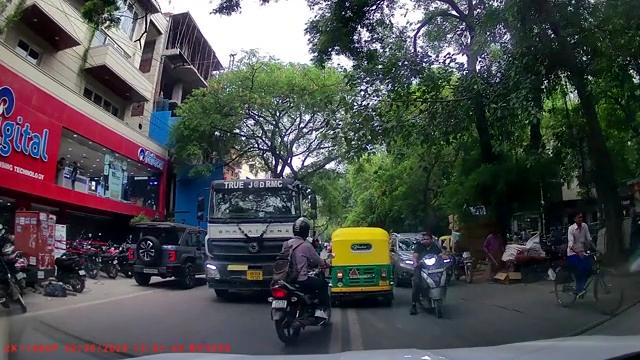motorcycle_with_helmet: (269, 215, 334, 346)
motorcycle_without_helmet: (410, 231, 450, 320)
